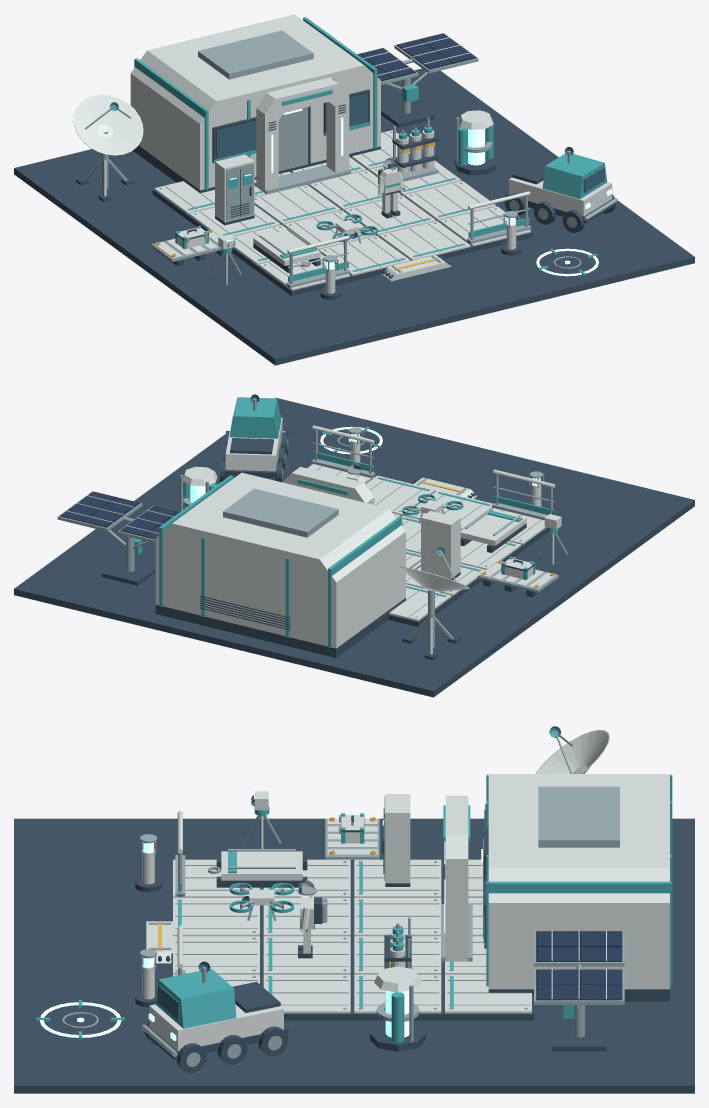
The model's file is orbital_field_station.glb.
The picture shows the model from 3 angles, top to bottom: view 1: azimuth 30°, elevation 25°; view 2: azimuth 150°, elevation 25°; view 3: azimuth 270°, elevation 25°; orthographic projection. The views are drawn at different scales.
Parts seen in each view (by area): view 1: terrain-base, 17-orbital-field-station-lab-module/shell, 18-orbital-field-station-airlock-gate/shell, 17-orbital-field-station-lab-module/metal, 20-orbital-field-station-communications-dish/shell, 21-orbital-field-station-solar-array/panel, 17-orbital-field-station-lab-module/accent, 12-orbital-field-station-deck-tile/shell, 06-orbital-field-station-deck-tile/shell, 15-orbital-field-station-deck-tile/shell, 22-orbital-field-station-survey-rover/accent, 08-orbital-field-station-deck-tile/shell (+32 smaller); view 2: terrain-base, 17-orbital-field-station-lab-module/shell, 17-orbital-field-station-lab-module/dark, 17-orbital-field-station-lab-module/metal, 17-orbital-field-station-lab-module/accent, 21-orbital-field-station-solar-array/panel, 24-orbital-field-station-sample-locker/shell, 22-orbital-field-station-survey-rover/accent, 22-orbital-field-station-survey-rover/dark, 18-orbital-field-station-airlock-gate/shell, 12-orbital-field-station-deck-tile/shell, 22-orbital-field-station-survey-rover/shell (+16 smaller); view 3: terrain-base, 17-orbital-field-station-lab-module/shell, 21-orbital-field-station-solar-array/panel, 17-orbital-field-station-lab-module/metal, 18-orbital-field-station-airlock-gate/shell, 17-orbital-field-station-lab-module/accent, 22-orbital-field-station-survey-rover/dark, 22-orbital-field-station-survey-rover/accent, 06-orbital-field-station-deck-tile/shell, 15-orbital-field-station-deck-tile/shell, 11-orbital-field-station-deck-tile/shell, 22-orbital-field-station-survey-rover/shell (+33 smaller).
Boxes of the visible parts, <box> form: terrain-base: <box>14,68,694,365</box>; 17-orbital-field-station-lab-module/shell: <box>130,14,380,190</box>; 18-orbital-field-station-airlock-gate/shell: <box>256,77,349,192</box>; 17-orbital-field-station-lab-module/metal: <box>198,30,313,171</box>; 20-orbital-field-station-communications-dish/shell: <box>73,94,143,155</box>; 21-orbital-field-station-solar-array/panel: <box>357,33,476,81</box>; 17-orbital-field-station-lab-module/accent: <box>134,17,377,189</box>; 12-orbital-field-station-deck-tile/shell: <box>379,221,470,260</box>; 06-orbital-field-station-deck-tile/shell: <box>254,185,340,224</box>; 15-orbital-field-station-deck-tile/shell: <box>405,181,495,220</box>; 22-orbital-field-station-survey-rover/accent: <box>542,153,607,199</box>; 08-orbital-field-station-deck-tile/shell: <box>319,236,410,275</box>; terrain-base: <box>14,397,694,697</box>; 17-orbital-field-station-lab-module/shell: <box>155,472,405,648</box>; 17-orbital-field-station-lab-module/dark: <box>155,595,405,657</box>; 17-orbital-field-station-lab-module/metal: <box>223,488,338,537</box>; 17-orbital-field-station-lab-module/accent: <box>159,475,402,647</box>; 21-orbital-field-station-solar-array/panel: <box>60,491,179,539</box>; 24-orbital-field-station-sample-locker/shell: <box>421,510,460,578</box>; 22-orbital-field-station-survey-rover/accent: <box>229,397,281,438</box>; 22-orbital-field-station-survey-rover/dark: <box>220,430,288,482</box>; 18-orbital-field-station-airlock-gate/shell: <box>282,467,374,504</box>; 12-orbital-field-station-deck-tile/shell: <box>366,475,435,515</box>; 22-orbital-field-station-survey-rover/shell: <box>225,416,282,471</box>; terrain-base: <box>14,818,694,1093</box>; 17-orbital-field-station-lab-module/shell: <box>488,774,669,989</box>; 21-orbital-field-station-solar-array/panel: <box>536,931,622,1000</box>; 17-orbital-field-station-lab-module/metal: <box>483,786,619,938</box>; 18-orbital-field-station-airlock-gate/shell: <box>445,795,468,961</box>; 17-orbital-field-station-lab-module/accent: <box>484,774,672,986</box>; 22-orbital-field-station-survey-rover/dark: <box>144,981,288,1073</box>; 22-orbital-field-station-survey-rover/accent: <box>156,968,236,1028</box>; 06-orbital-field-station-deck-tile/shell: <box>354,898,441,936</box>; 15-orbital-field-station-deck-tile/shell: <box>263,974,350,1013</box>; 11-orbital-field-station-deck-tile/shell: <box>263,936,350,974</box>; 22-orbital-field-station-survey-rover/shell: <box>149,1004,283,1050</box>.
Size of the model in its own units: 13.93 by 3.38 by 15.02.
8 materials, 1 textured.
